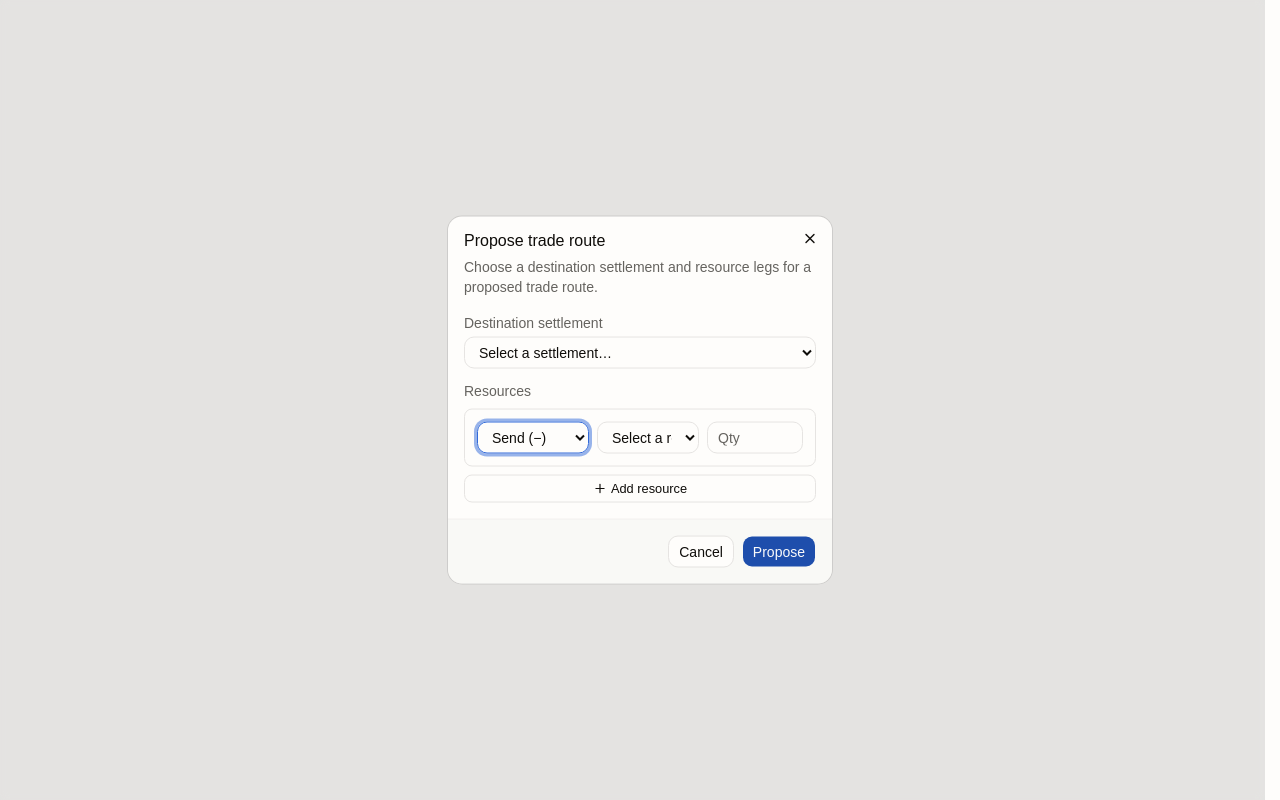
Scenario: ProposeTradeRouteDialog › validation — shows errors when fields are empty
Click the button "Propose" at (779, 552), box [742,536,816,568]
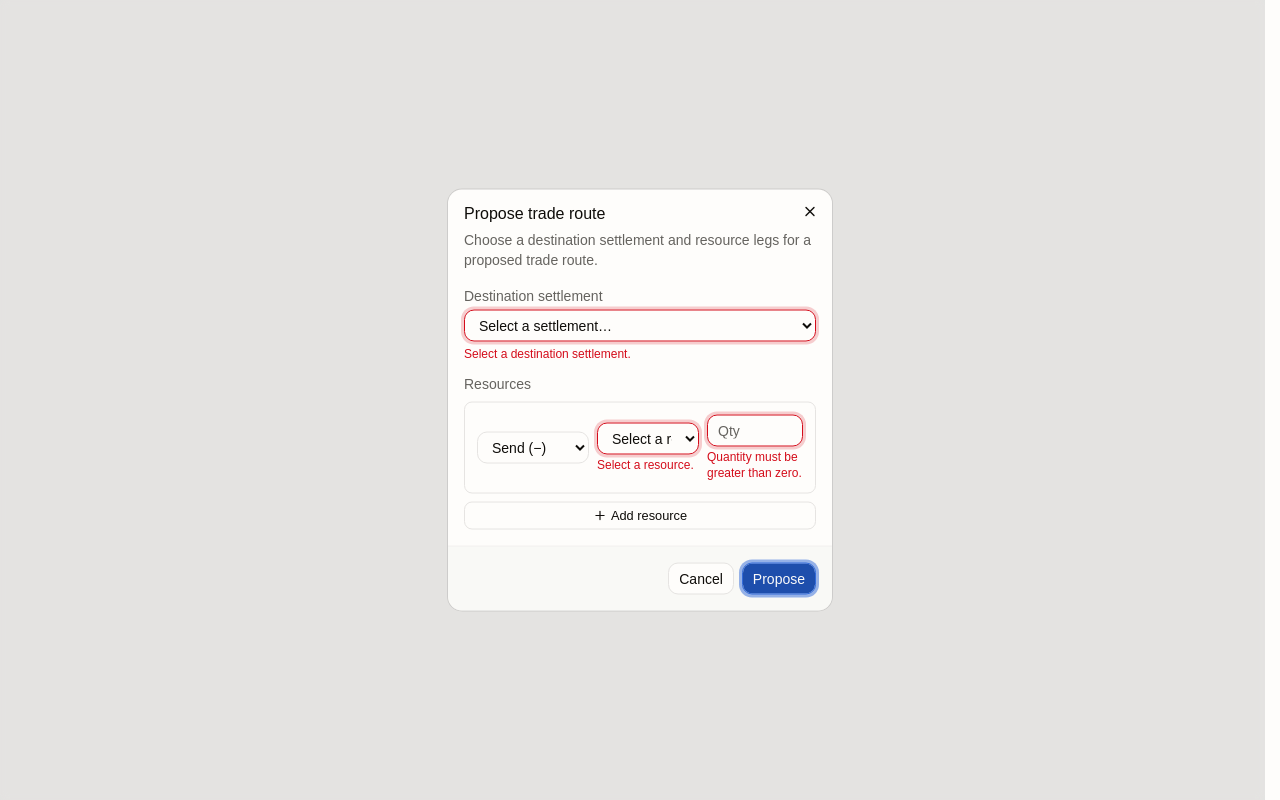
Check: the text "Select a destination settlement." is shown, box [464,346,631,360]
Check: the text "Select a resource." is shown, box [597,456,699,472]
Check: the text "Quantity must be greater than zero." is shown, box [707,448,803,480]
